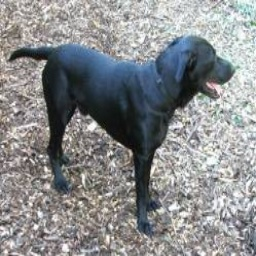dog: (21, 26, 234, 233)
